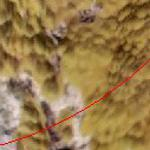alive: (6, 7, 146, 148)
